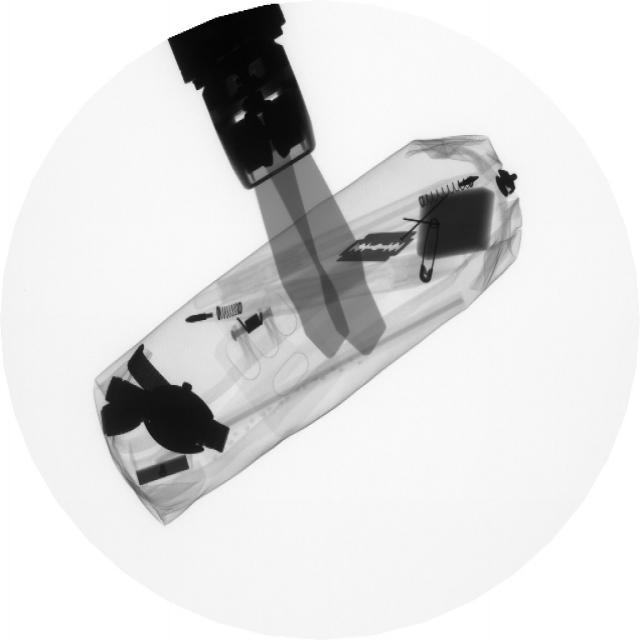BLADE: (333, 223, 426, 270)
